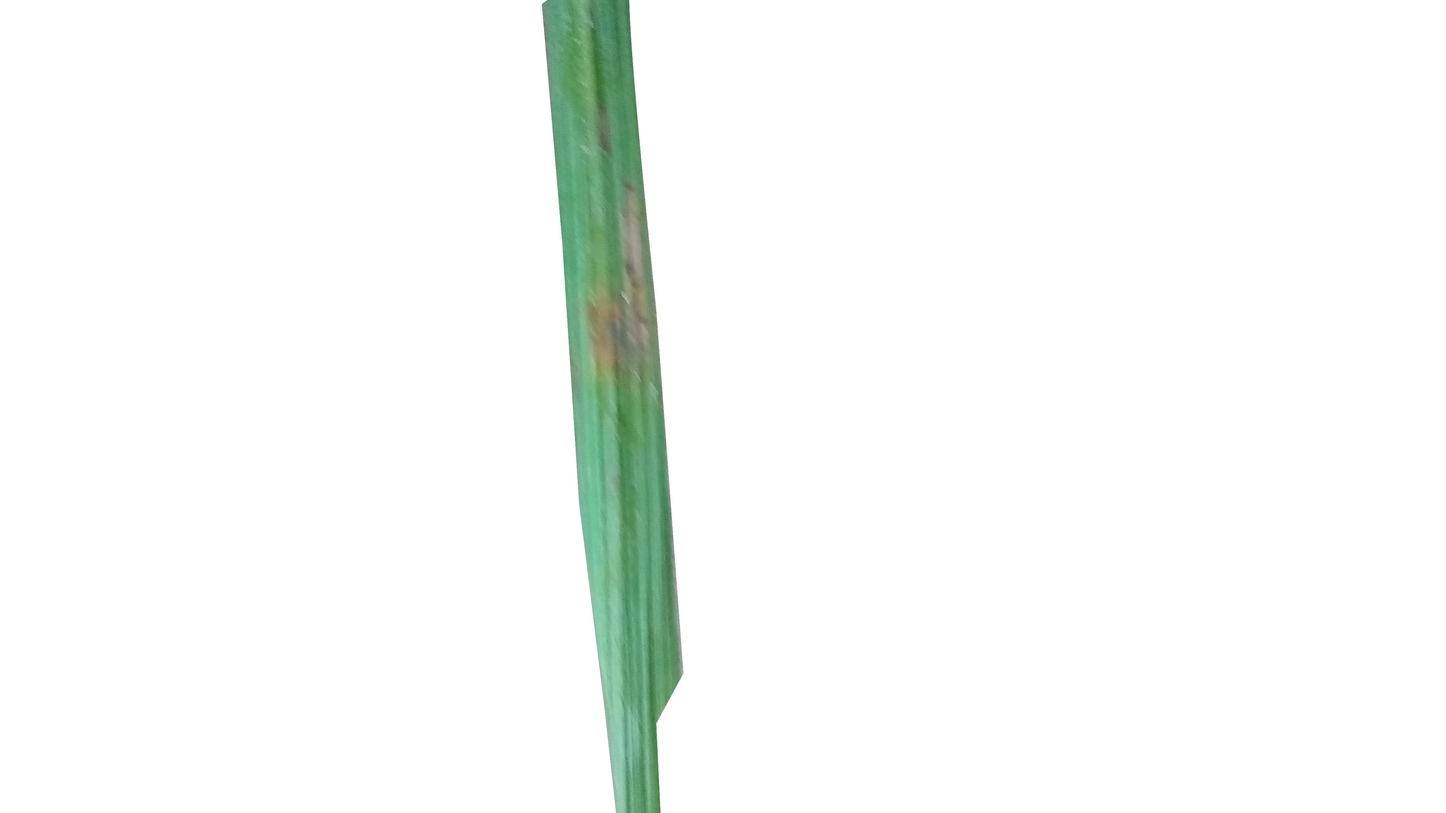Rice blast: (557, 197, 658, 395)
